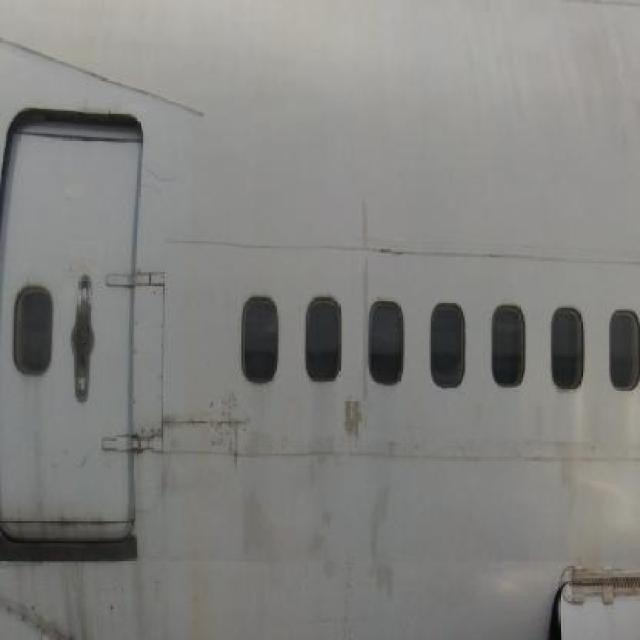Scartch: (334, 385, 374, 473), (356, 175, 372, 394)
